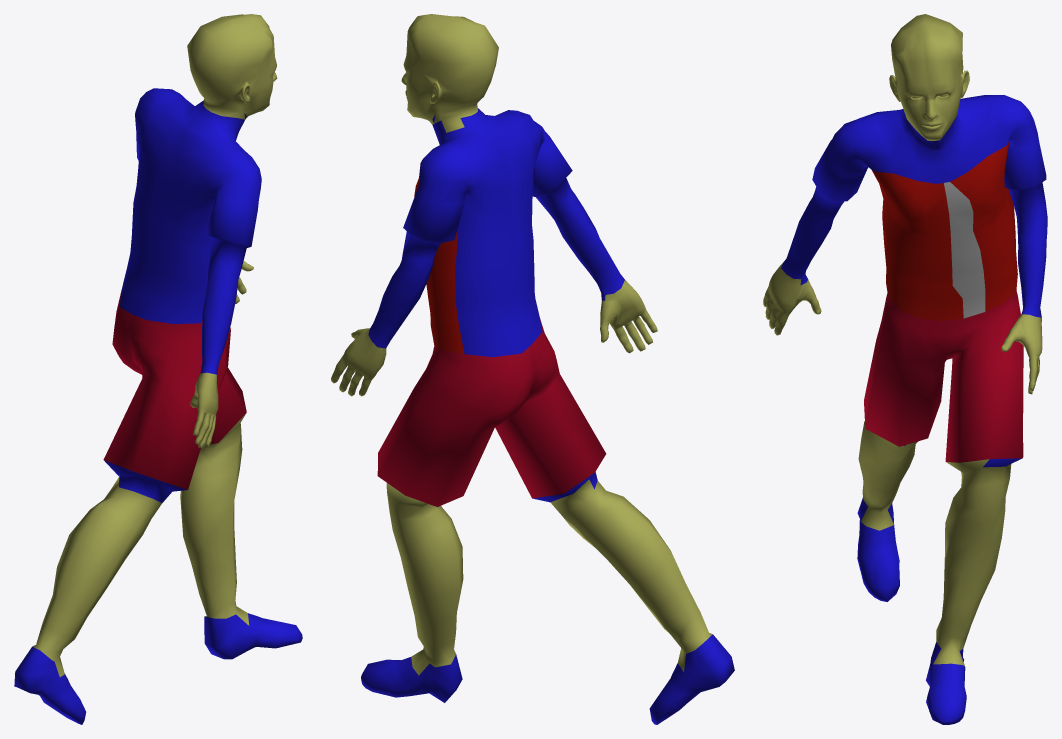
File: player_000016.obj
3 views of the same model, side by side, from view 1: azimuth 30°, elevation 25°; view 2: azimuth 150°, elevation 25°; view 3: azimuth 270°, elevation 25° (orthographic). The views are drawn at different scales.
Visible parts, largest first — view 1: soccerplayer_mesh; view 2: soccerplayer_mesh; view 3: soccerplayer_mesh.
Boxes of the visible parts, x1,y1,x2,y2 form: soccerplayer_mesh: [14, 14, 302, 724]; soccerplayer_mesh: [331, 14, 734, 724]; soccerplayer_mesh: [763, 14, 1047, 724].
Bounding box in the file's own units: 2.68 × 5.23 × 2.02.
